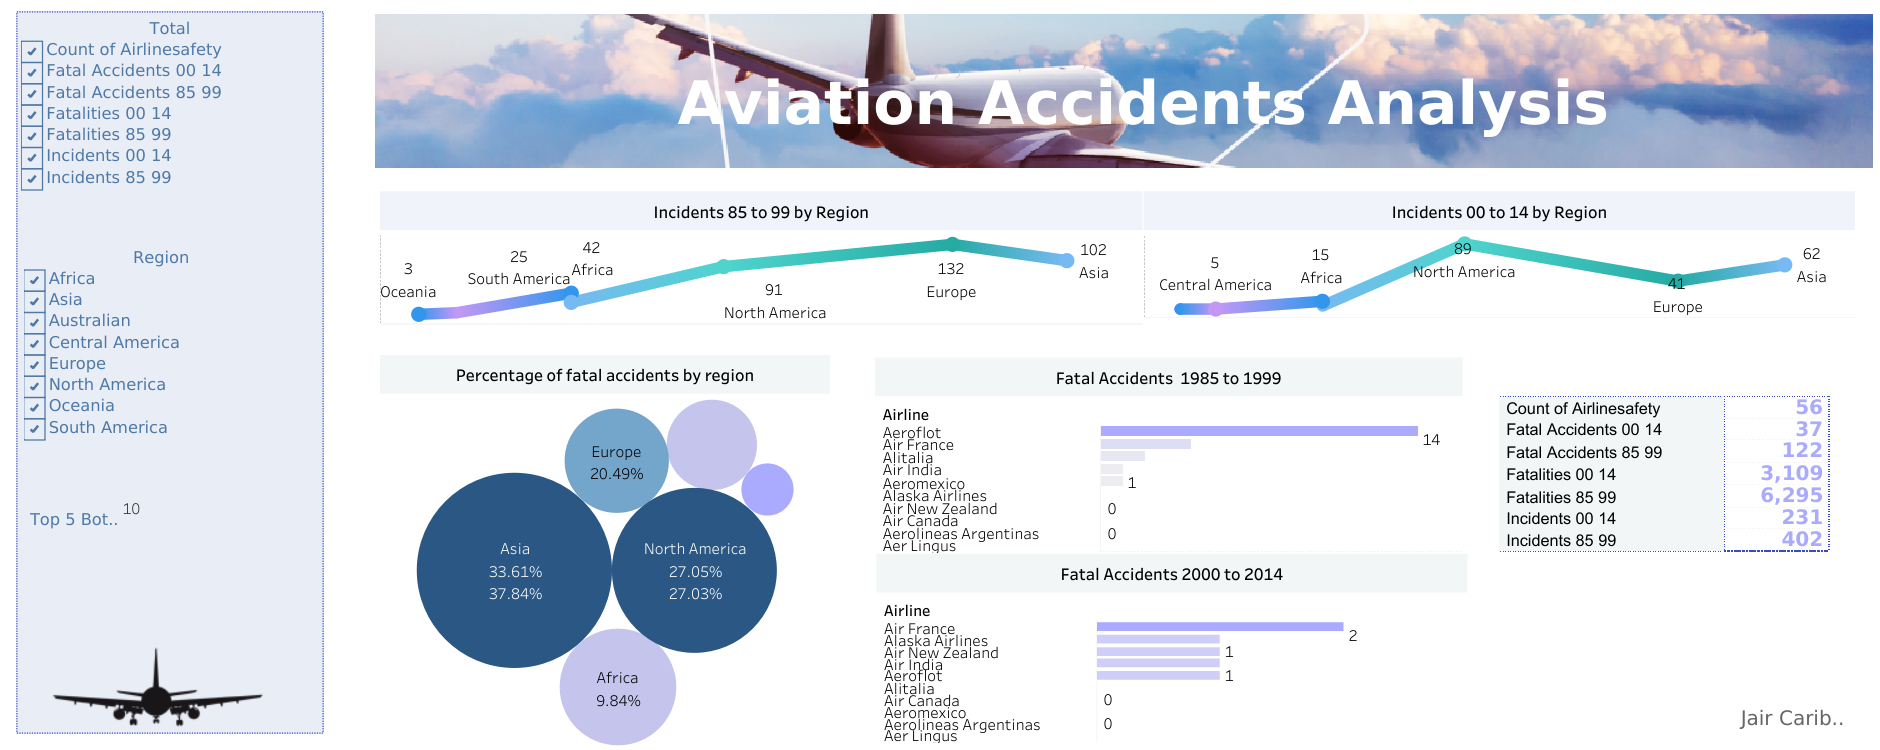

The page's visual inventory and layout, read from the dashboard file:
{"tool":"tableau","page":{"name":"Dashboard 2","canvas":[1000,1000],"units":"permille","ordinal":0},"visuals":[{"type":"blank","box":[4.8,9.4,990.3,981.2]},{"type":"filter","title":"Sheet 6","param":"[federated.06w14m70utayte16w20ao00sy76t].[:Measure Names]","box":[8.6,15.3,163.6,961.2]},{"type":"image","param":"C:/Users/jairc/OneDrive/Área de Trabalho/CSO_Series_Website_Headers-15.png","box":[199.6,18.8,795.5,204.5]},{"type":"text","box":[311.2,64.6,546.1,144.5]},{"type":"worksheet","title":"Incidents 85 to 99 by Region","mark":"Line","rows":["incidents_85_99"],"cols":["Airlinesafety_699C96C8D2384388B85A75C87281423C"],"box":[201.7,255,405.3,176.3]},{"type":"worksheet","title":"Incidents 00 to 14 by Region","mark":"Line","rows":["incidents_00_14"],"cols":["Airlinesafety_699C96C8D2384388B85A75C87281423C"],"box":[608.2,255,377.6,168]},{"type":"filter","title":"Incidents 00 to 14 by Region","param":"[federated.06w14m70utayte16w20ao00sy76t].[none:region:nk]","box":[12.9,326.7,145.8,283.2]},{"type":"worksheet","title":"Percentage of fatal accidents by region","mark":"Circle","box":[201.7,472.4,239.2,519.4]},{"type":"worksheet","title":"Fatal Accidents  1985 to 1999","mark":"Automatic","rows":["airline"],"cols":["fatal_accidents_85_99"],"box":[464.9,475.9,312.4,258.5]},{"type":"worksheet","title":"Sheet 6","mark":"Automatic","box":[796.4,502.9,176.5,232.7]},{"type":"parameter","param":"[Parameters].[Parameter 1]","box":[16,660.4,100.2,59.9]},{"type":"worksheet","title":"Fatal Accidents 2000 to 2014","mark":"Automatic","rows":["airline"],"cols":["fatal_accidents_00_14"],"box":[465.6,736.8,314.3,249.1]},{"type":"image","param":"C:/Users/jairc/Downloads/pinpng.com-avion-logo-png-4192186.png","box":[27.7,861.3,113.8,104.6]},{"type":"text","box":[923.7,937.7,61.5,35.2]}]}

Visuals, with their boxes on the dashboard's canvas, which has no fixed pixel size, in thousandths of its width and height (x1, y1, x2, y2). These are canvas units, not pixel positions in the 1880x750 screenshot, which may show the page scaled, cropped or inside an application window:
blank: <region>5, 9, 995, 991</region>
"Sheet 6" filter: <region>9, 15, 172, 976</region>
image: <region>200, 19, 995, 223</region>
text: <region>311, 65, 857, 209</region>
"Incidents 85 to 99 by Region" worksheet (Line marks): <region>202, 255, 607, 431</region>
"Incidents 00 to 14 by Region" worksheet (Line marks): <region>608, 255, 986, 423</region>
"Incidents 00 to 14 by Region" filter: <region>13, 327, 159, 610</region>
"Percentage of fatal accidents by region" worksheet (Circle marks): <region>202, 472, 441, 992</region>
"Fatal Accidents  1985 to 1999" worksheet: <region>465, 476, 777, 734</region>
"Sheet 6" worksheet: <region>796, 503, 973, 736</region>
parameter: <region>16, 660, 116, 720</region>
"Fatal Accidents 2000 to 2014" worksheet: <region>466, 737, 780, 986</region>
image: <region>28, 861, 142, 966</region>
text: <region>924, 938, 985, 973</region>
